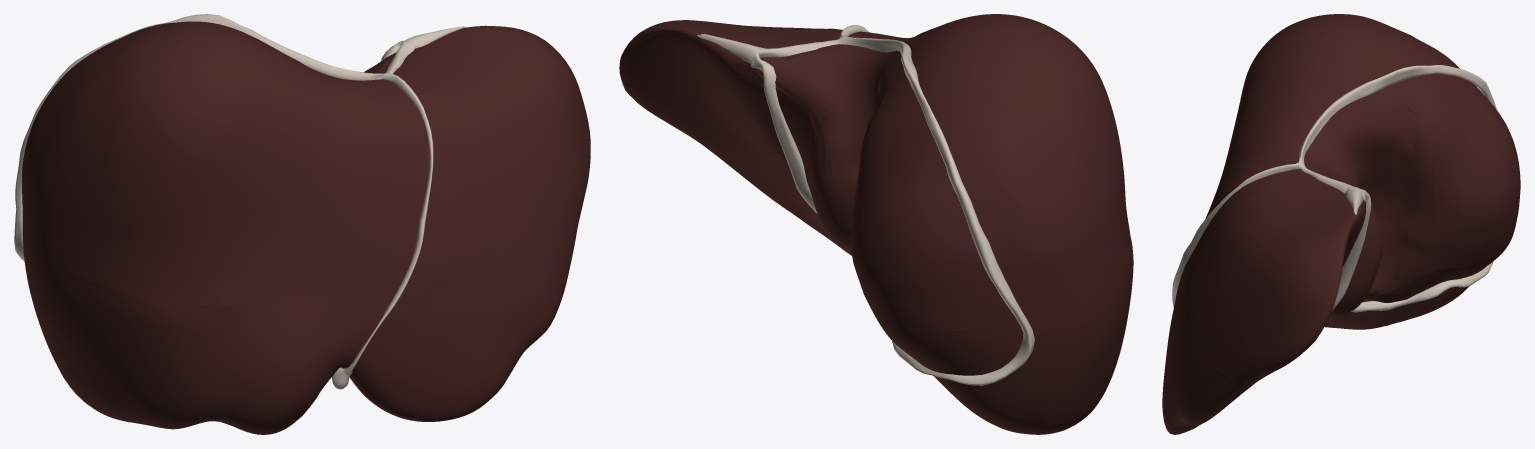
File: VH_F_Liver.fbx
The picture shows the model from 3 angles, left to right: view 1: azimuth 30°, elevation 25°; view 2: azimuth 150°, elevation 25°; view 3: azimuth 270°, elevation 25°; orthographic projection. The views are drawn at different scales.
Parts seen in each view (by area): view 1: VH_F_capsule_of_the_liver, VH_F_left_superomedial_segment1, VH_F_left_inferomedial_segment, VH_F_right_anterosuperior_segment, VH_F_right_anteroinferior_segment, VH_F_left_superomedial_segment, VH_F_coronary_ligament_of_liver, VH_F_falciform_ligament, VH_F_left_anterolateral_segment; view 2: VH_F_capsule_of_the_liver, VH_F_bare_area_of_liver, VH_F_left_superomedial_segment, VH_F_coronary_ligament_of_liver, VH_F_caudate_lobe, VH_F_diaphragmatic_surface_of_liver, VH_F_right_posterosuperior_segment, VH_F_gastric_impression_of_liver, VH_F_ligamentum_venosum, VH_F_left_anterolateral_segment, VH_F_right_posteroinferior_segment, VH_F_right_anterosuperior_segment (+2 smaller); view 3: VH_F_capsule_of_the_liver, VH_F_bare_area_of_liver, VH_F_caudate_lobe, VH_F_coronary_ligament_of_liver, VH_F_right_posterosuperior_segment, VH_F_left_superomedial_segment1, VH_F_diaphragmatic_surface_of_liver, VH_F_left_superomedial_segment, VH_F_falciform_ligament, VH_F_ligamentum_venosum, VH_F_right_posteroinferior_segment, VH_F_suprarenal_impression_of_liver (+2 smaller).
Boxes of the visible parts, bbox=[...] form: VH_F_capsule_of_the_liver: bbox=[22, 21, 590, 434]; VH_F_left_superomedial_segment1: bbox=[222, 55, 433, 305]; VH_F_left_inferomedial_segment: bbox=[208, 284, 398, 433]; VH_F_right_anterosuperior_segment: bbox=[38, 23, 278, 305]; VH_F_right_anteroinferior_segment: bbox=[39, 264, 223, 426]; VH_F_left_superomedial_segment: bbox=[380, 31, 586, 284]; VH_F_coronary_ligament_of_liver: bbox=[14, 14, 413, 261]; VH_F_falciform_ligament: bbox=[344, 73, 433, 375]; VH_F_left_anterolateral_segment: bbox=[354, 226, 577, 419]; VH_F_capsule_of_the_liver: bbox=[619, 14, 1133, 434]; VH_F_bare_area_of_liver: bbox=[749, 47, 1023, 375]; VH_F_left_superomedial_segment: bbox=[622, 22, 840, 178]; VH_F_coronary_ligament_of_liver: bbox=[767, 36, 1034, 385]; VH_F_caudate_lobe: bbox=[778, 47, 899, 250]; VH_F_diaphragmatic_surface_of_liver: bbox=[619, 30, 1055, 434]; VH_F_right_posterosuperior_segment: bbox=[851, 62, 1101, 331]; VH_F_gastric_impression_of_liver: bbox=[668, 64, 851, 255]; VH_F_ligamentum_venosum: bbox=[751, 53, 817, 213]; VH_F_left_anterolateral_segment: bbox=[716, 151, 829, 235]; VH_F_right_posteroinferior_segment: bbox=[866, 299, 1101, 433]; VH_F_right_anterosuperior_segment: bbox=[897, 16, 1132, 282]; VH_F_capsule_of_the_liver: bbox=[1162, 14, 1472, 434]; VH_F_bare_area_of_liver: bbox=[1306, 74, 1520, 298]; VH_F_caudate_lobe: bbox=[1305, 98, 1437, 315]; VH_F_coronary_ligament_of_liver: bbox=[1298, 65, 1496, 312]; VH_F_right_posterosuperior_segment: bbox=[1393, 31, 1518, 244]; VH_F_left_superomedial_segment1: bbox=[1199, 57, 1323, 240]; VH_F_diaphragmatic_surface_of_liver: bbox=[1170, 201, 1494, 433]; VH_F_left_superomedial_segment: bbox=[1176, 172, 1365, 381]; VH_F_falciform_ligament: bbox=[1172, 162, 1298, 307]; VH_F_ligamentum_venosum: bbox=[1331, 189, 1371, 311]; VH_F_right_posteroinferior_segment: bbox=[1386, 226, 1513, 325]; VH_F_suprarenal_impression_of_liver: bbox=[1399, 267, 1471, 289].
Size of the model in its own units: 24.71 by 17 by 16.63.
